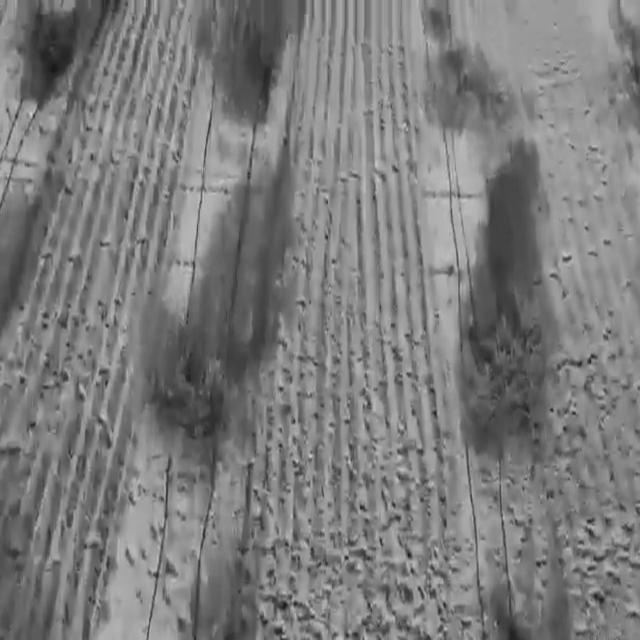trees: (123, 281, 242, 459), (456, 290, 563, 456), (406, 5, 512, 137), (185, 0, 275, 120), (2, 4, 90, 113)
